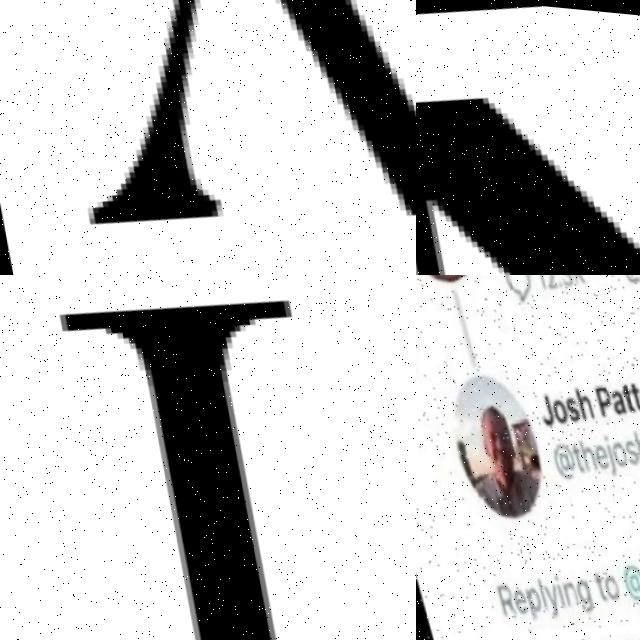1: (529, 275, 546, 288)
2: (539, 275, 556, 288)
3: (553, 275, 573, 285)
I: (59, 297, 295, 640)
N: (1, 0, 416, 275), (416, 17, 640, 275)
